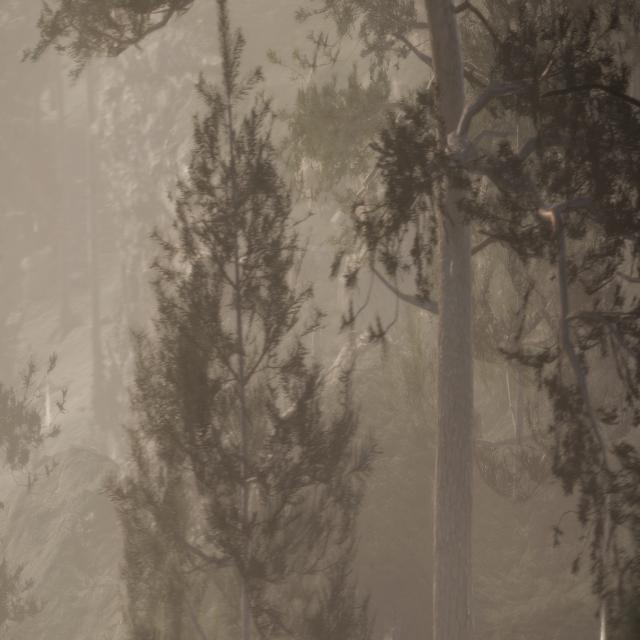Human: (307, 302, 327, 389)
